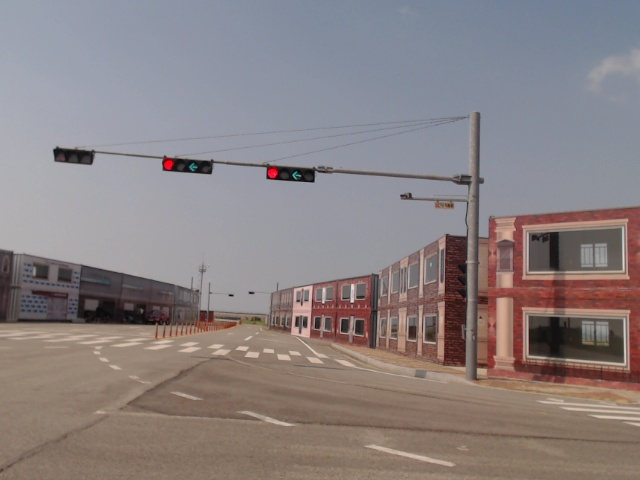left_green_4: (267, 166, 314, 183), (163, 158, 212, 174)
